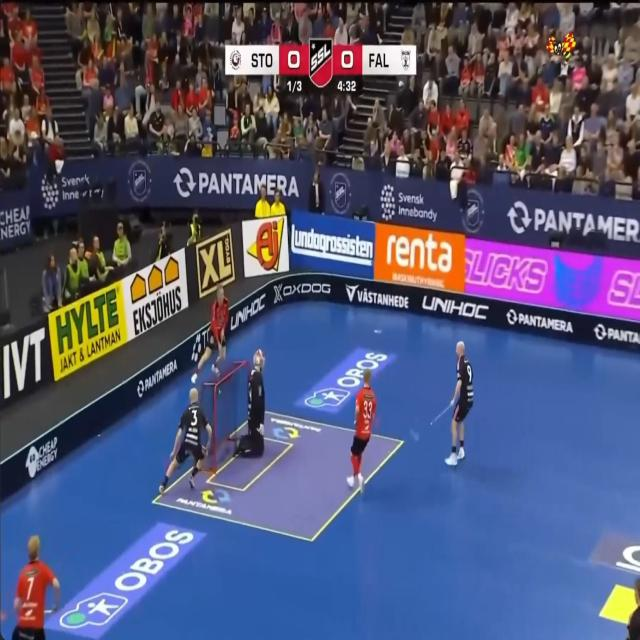player: (159, 387, 211, 492), (12, 536, 59, 639), (192, 285, 229, 382), (347, 369, 376, 490), (445, 341, 473, 466), (234, 350, 265, 457)
stick: (430, 404, 451, 424)
